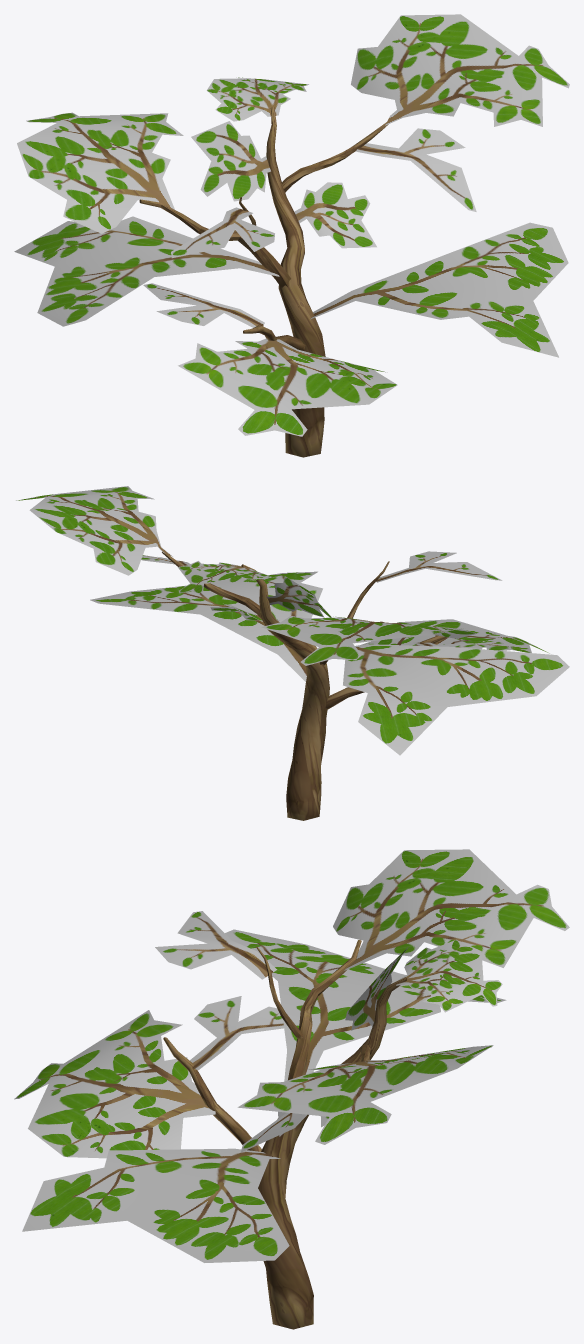
File: LOD_albero3.fbx
3 views of the same model, one above another, from view 1: azimuth 30°, elevation 25°; view 2: azimuth 150°, elevation 25°; view 3: azimuth 270°, elevation 25° (orthographic). The views are drawn at different scales.
Parts seen in each view (by area): view 1: albero; view 2: albero; view 3: albero.
Part boxes in pixels (left/top/right/bottom): albero: left=14, top=14, right=569, bottom=457; albero: left=16, top=486, right=569, bottom=820; albero: left=14, top=849, right=569, bottom=1329.
Size of the model in its own units: 7.83 by 4.49 by 5.95.
Materials: 2 (2 with a texture image).
